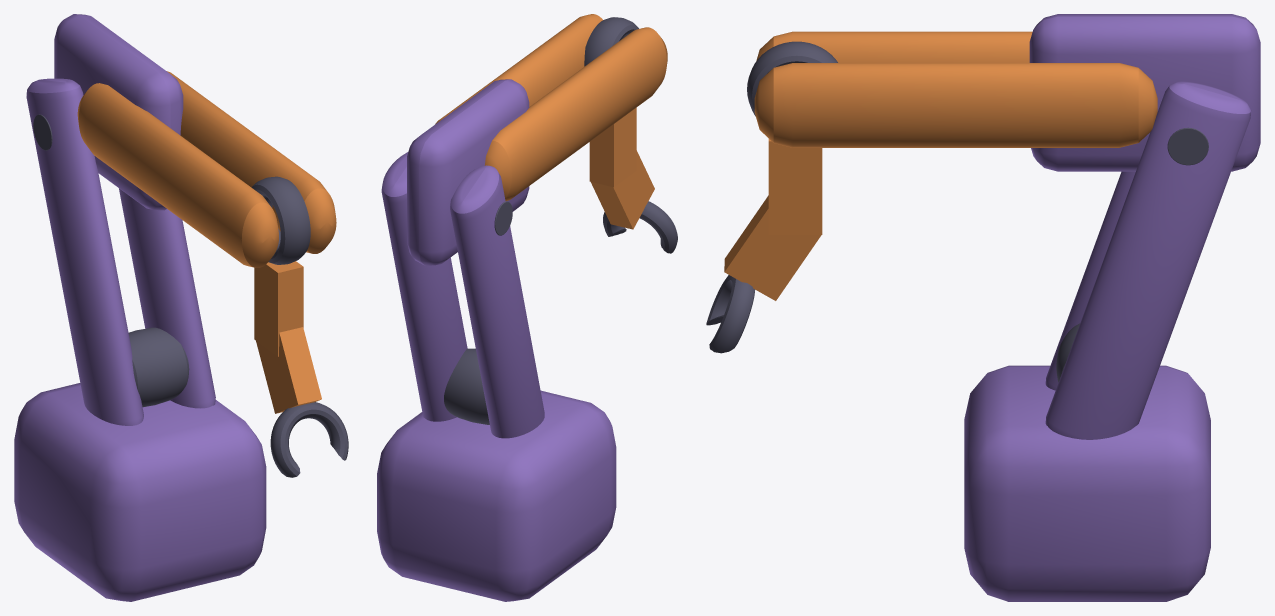
File: crane.fbx
The picture shows the model from 3 angles, left to right: view 1: azimuth 30°, elevation 25°; view 2: azimuth 150°, elevation 25°; view 3: azimuth 270°, elevation 25°; orthographic projection. The views are drawn at different scales.
Visible parts, largest first — view 1: Cube.001; view 2: Cube.001; view 3: Cube.001.
Part boxes in pixels (left/top/right/bottom): Cube.001: left=14, top=14, right=348, bottom=601; Cube.001: left=377, top=14, right=677, bottom=601; Cube.001: left=706, top=14, right=1260, bottom=601.
Bounding box in the file's own units: 136 × 380 × 343.
